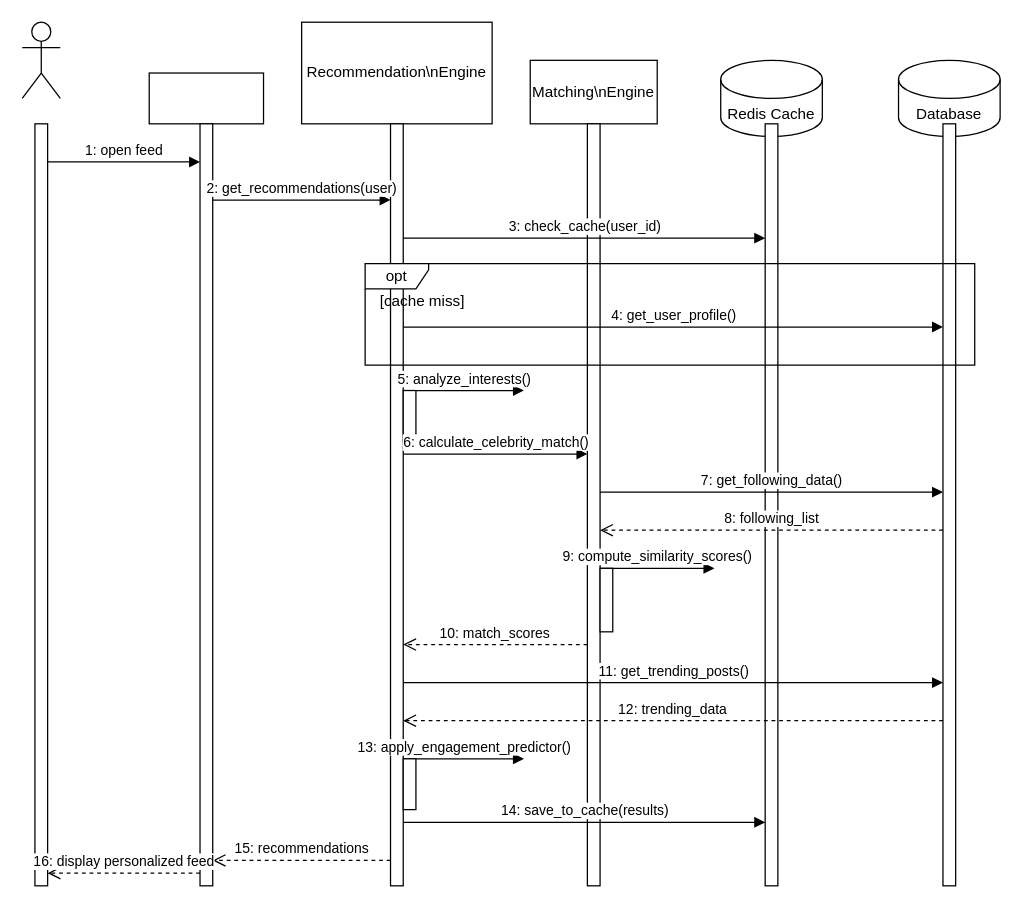
The diagram is 1022 pixels wide and 908 high, and some of its shapes have lost their labels. The shapes that lost their labels are listed below. From the top down, each one's centre as x and y in pixels, then its label:
At point (40, 59): "Fan".
At point (206, 98): "Feed UI".
